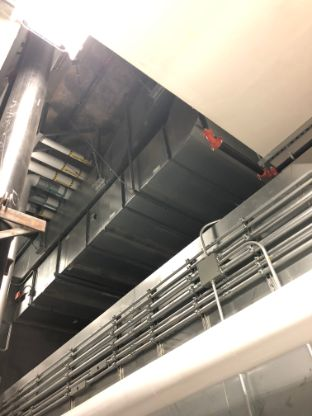Duct: (1, 100, 285, 332)
